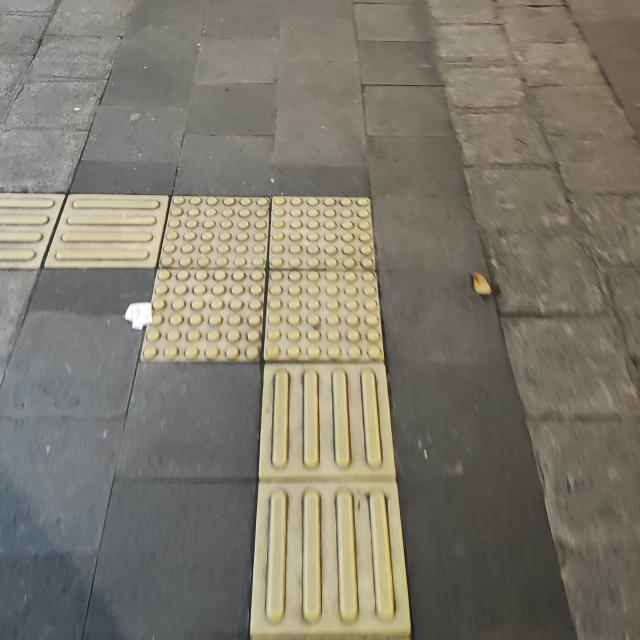kiri: (0, 114, 460, 451)
